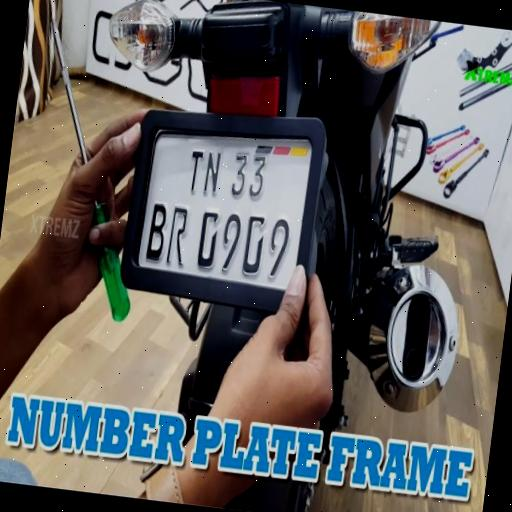number plate: (128, 123, 317, 298)
